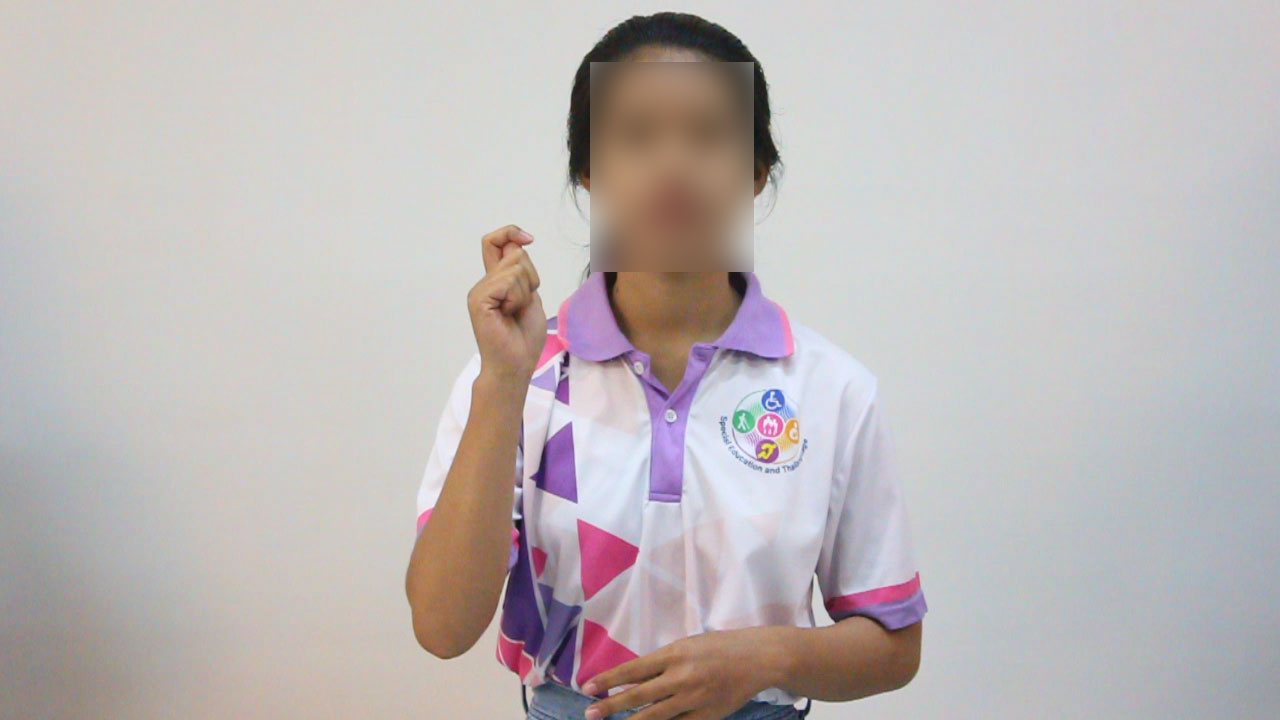or: (456, 223, 561, 387)
